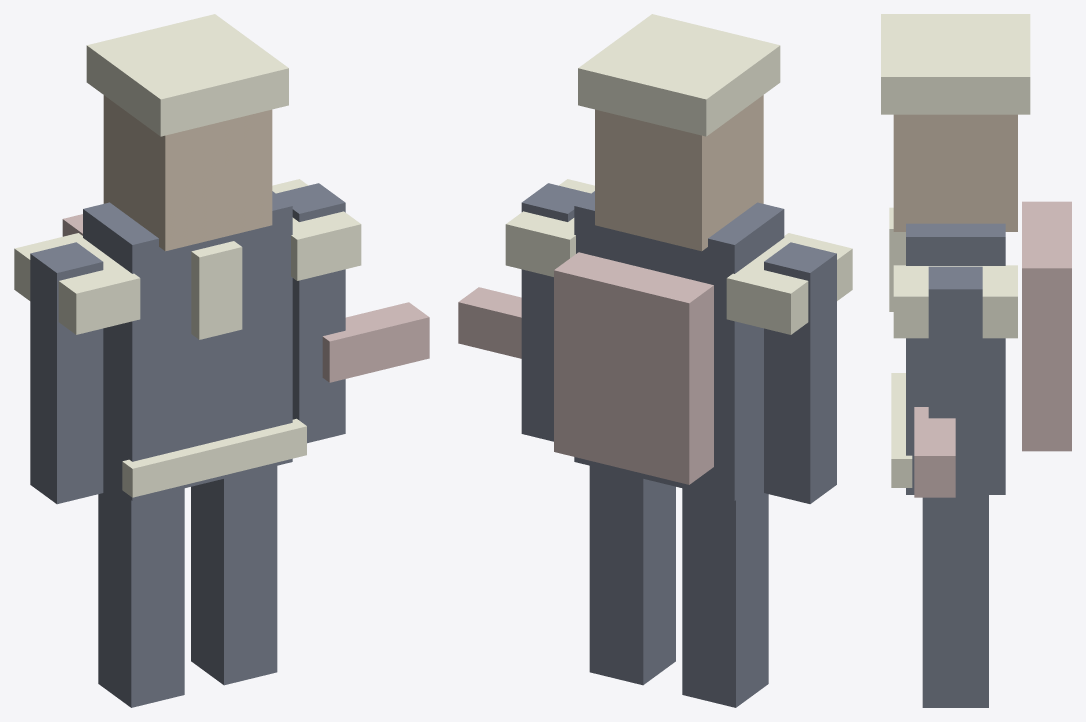
File: 01_kael_gravesong_scout_at_cargo.glb
The picture shows the model from 3 angles, left to right: view 1: azimuth 30°, elevation 25°; view 2: azimuth 150°, elevation 25°; view 3: azimuth 270°, elevation 25°; orthographic projection.
Parts seen in each view (by area): view 1: Kael Gravesong, Scout at Cargo; view 2: Kael Gravesong, Scout at Cargo; view 3: Kael Gravesong, Scout at Cargo.
Part boxes in pixels (x1,y1,x2,y2): Kael Gravesong, Scout at Cargo: (14, 14, 429, 707); Kael Gravesong, Scout at Cargo: (458, 14, 852, 707); Kael Gravesong, Scout at Cargo: (881, 14, 1071, 707).
Size of the model in its own units: 0.9568 by 1.55 by 0.4294.
